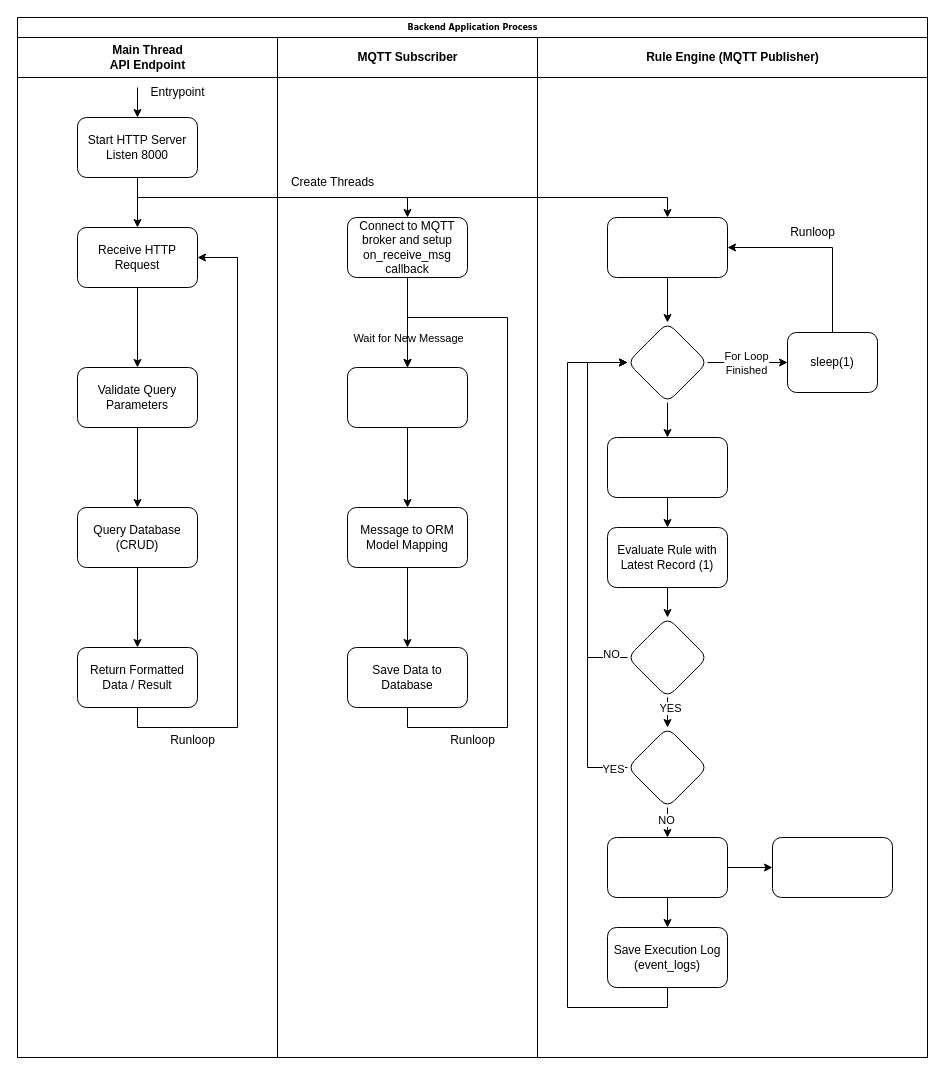
Image size: 945x1075. Some labels were removed from this diagram. The shapes that lost their labels are listed below. From the top down, each one's centre as x and y in pixels, then its label:
At point 667,247: "Query Existing Rules from Database".
At point 667,362: "For Every Rule".
At point 407,397: "On Receive Message".
At point 667,467: "Check Latest Record of Correspondent Table".
At point 667,657: "Match Criteria?".
At point 667,767: "Have Executed Rule Already?".
At point 667,867: "Execute Rule (Linked Controller & Action)".
At point 832,867: "Post Controller Command to MQTT".
